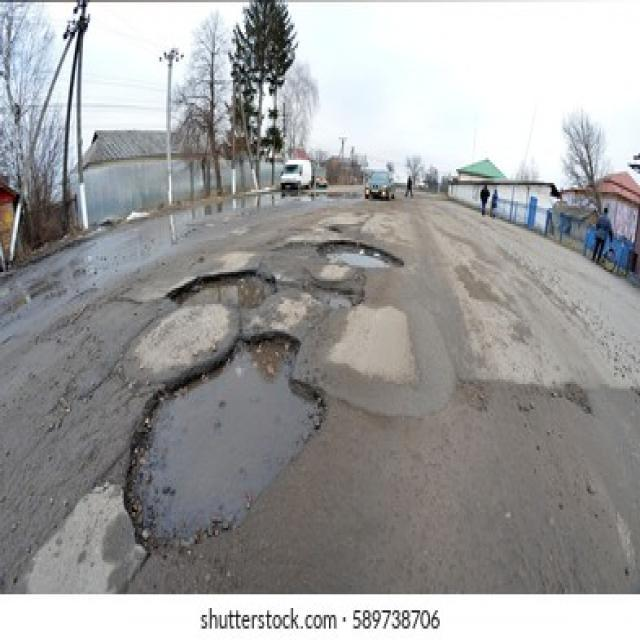Pothole: (120, 329, 326, 556), (164, 268, 278, 314), (316, 238, 406, 272), (306, 279, 355, 311)
